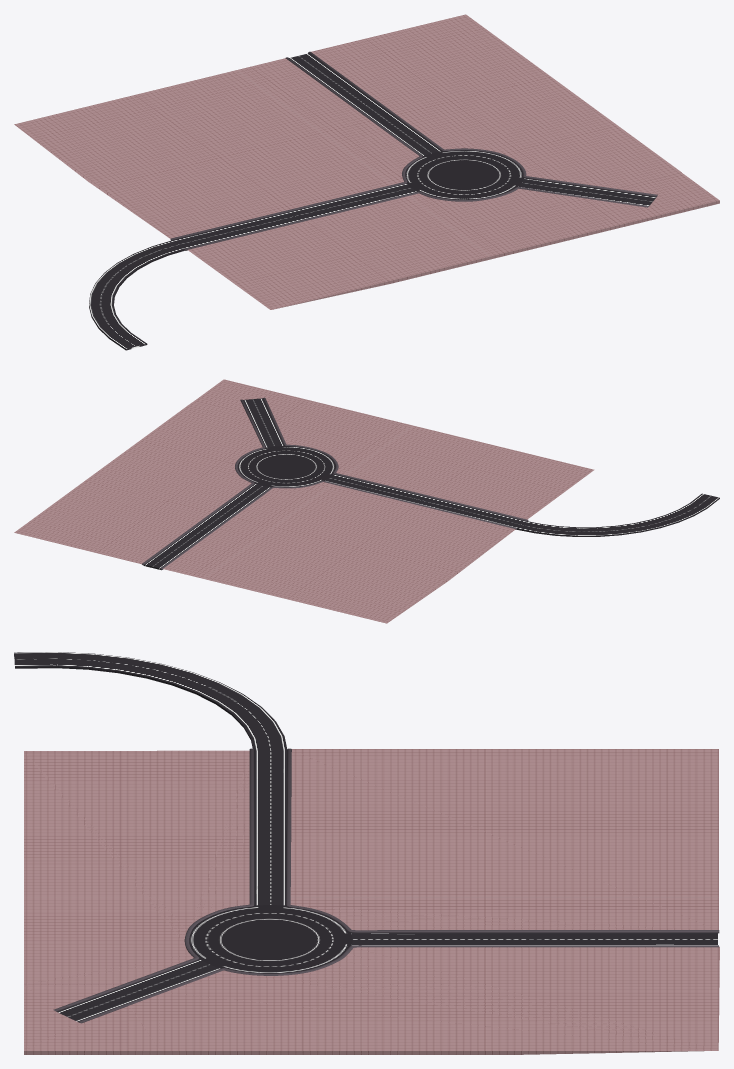
File: SueloMapa1.fbx
3 renders of one model, top to bottom at view 1: azimuth 30°, elevation 25°; view 2: azimuth 150°, elevation 25°; view 3: azimuth 270°, elevation 25°, orthographic. The views are drawn at different scales.
Parts seen in each view (by area): view 1: Cube.007, Cylinder, Cube, Cube.002, Cube.001, Cube.003, BezierCurve.001, BezierCurve, BezierCurve.002; view 2: Cube.007, Cylinder, Cube, Cube.002, Cube.001, Cube.003, BezierCurve.001, BezierCurve, BezierCurve.002; view 3: Cube.007, Cylinder, Cube, Cube.002, Cube.001, Cube.003, BezierCurve.001, BezierCurve.002, BezierCurve.
Boxes of the visible parts, x1,y1,x2,y2 form: Cube.007: (14, 14, 719, 309); Cylinder: (405, 150, 524, 199); Cube: (89, 240, 184, 350); Cube.002: (173, 183, 416, 248); Cube.001: (289, 53, 441, 155); Cube.003: (518, 178, 656, 205); BezierCurve.001: (170, 57, 422, 240); BezierCurve: (184, 187, 648, 250); BezierCurve.002: (308, 51, 657, 196); Cube.007: (14, 379, 594, 623); Cylinder: (237, 446, 335, 487); Cube: (517, 493, 719, 536); Cube.002: (325, 474, 525, 527); Cube.001: (143, 483, 270, 570); Cube.003: (243, 398, 284, 447); BezierCurve.001: (160, 480, 516, 569); BezierCurve: (263, 397, 528, 521); BezierCurve.002: (142, 399, 265, 565); Cube.007: (24, 749, 719, 1054); Cylinder: (189, 905, 352, 973); Cube: (14, 652, 287, 750); Cube.002: (254, 750, 287, 905); Cube.001: (351, 932, 717, 945); Cube.003: (57, 959, 220, 1021); BezierCurve.001: (286, 748, 719, 933); BezierCurve.002: (78, 945, 718, 1023); BezierCurve: (53, 748, 254, 1011).
Bounding box in the file's own units: 17719 × 108 × 13240.
